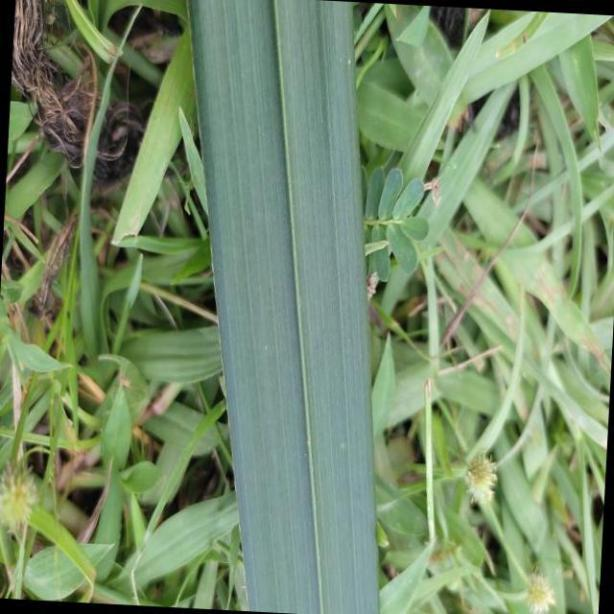Healthy: (192, 1, 379, 614)
